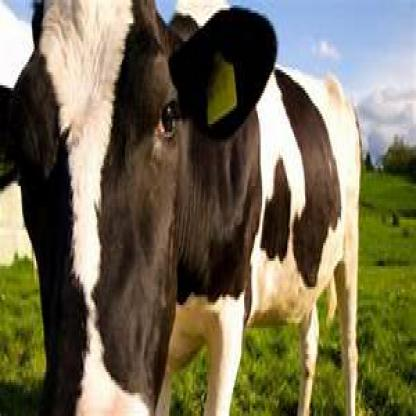cow: (0, 0, 367, 414)
